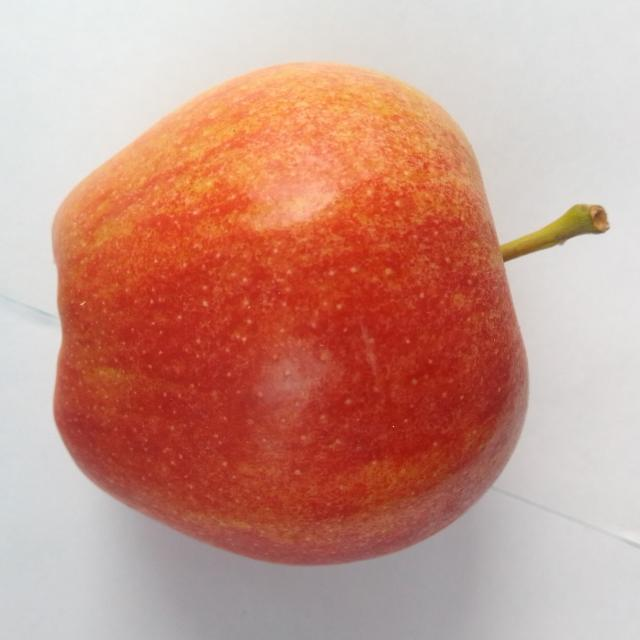Fresh Apple: (43, 53, 525, 552)
